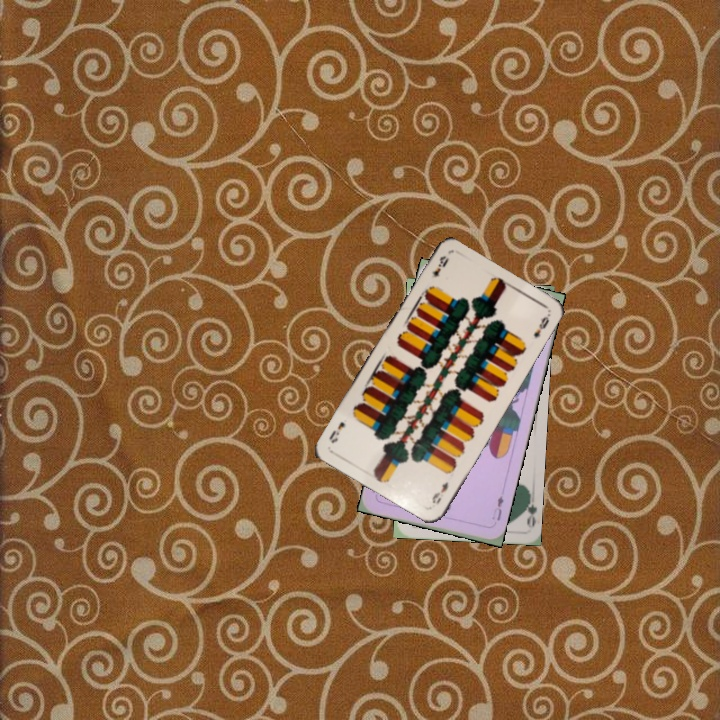E9: (428, 478, 451, 506), (428, 252, 451, 280)
EU: (488, 491, 506, 523)
GO: (518, 488, 538, 529)
